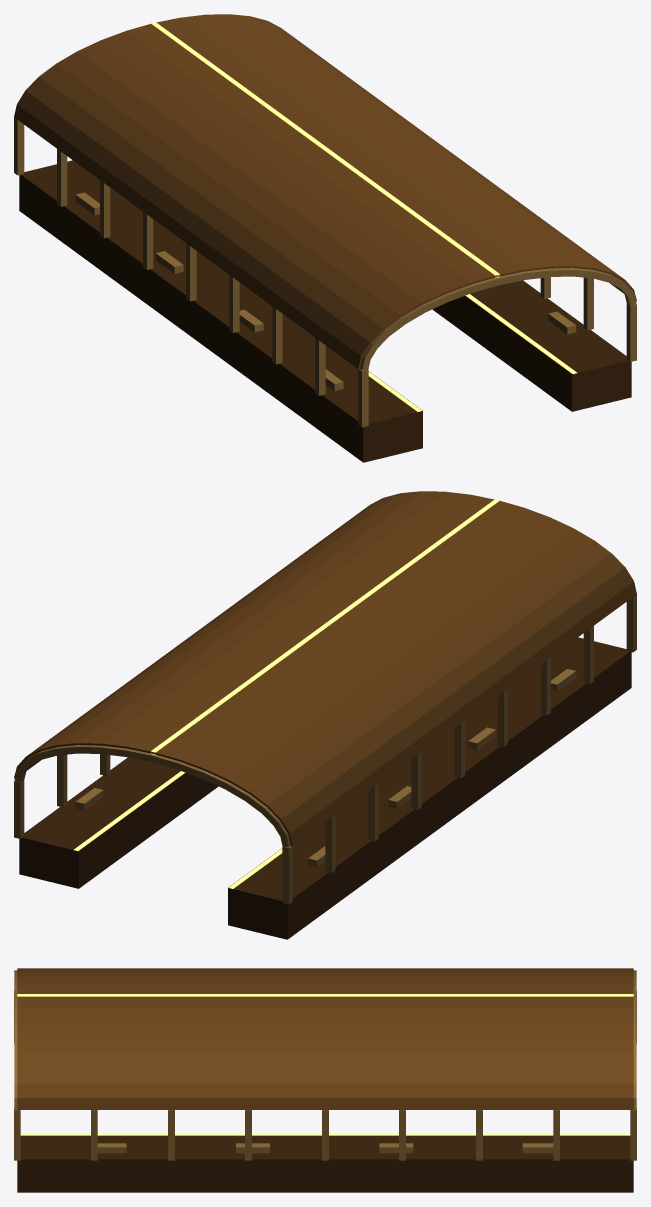
File: shaddai_station_desert_v01.glb
3 renders of one model, top to bottom at view 1: azimuth 30°, elevation 25°; view 2: azimuth 150°, elevation 25°; view 3: azimuth 270°, elevation 25°, orthographic. The views are drawn at different scales.
Parts seen in each view (by area): view 1: shaddai_station_desert; view 2: shaddai_station_desert; view 3: shaddai_station_desert.
Part boxes in pixels (x1,y1,x2,y2): shaddai_station_desert: (14,14,636,462); shaddai_station_desert: (14,491,636,939); shaddai_station_desert: (14,968,636,1192).
Bounding box in the file's own units: 18.7 × 9.97 × 40.44.
